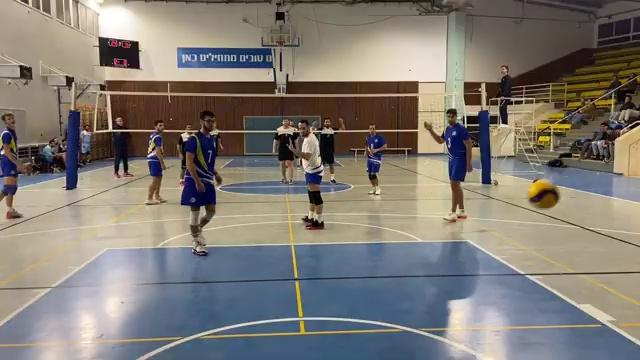ball: (519, 176, 565, 215)
